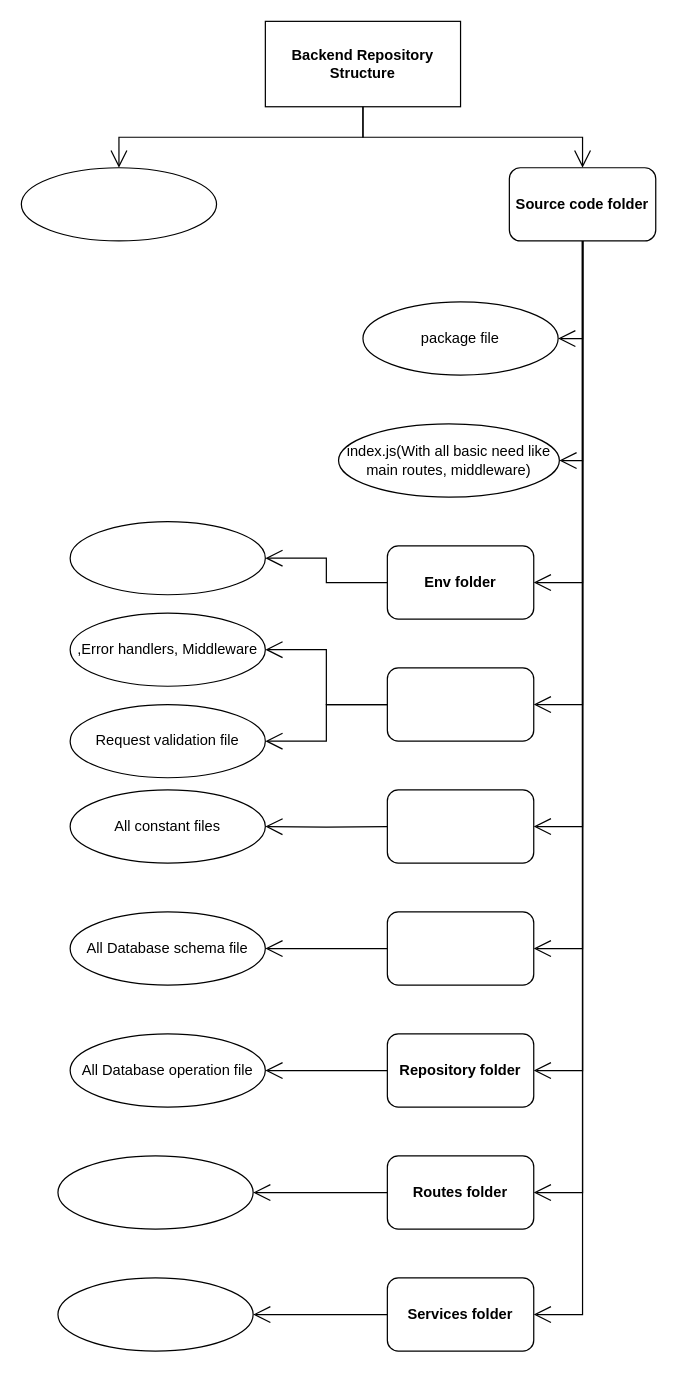
This 677x1373 diagram has some shape labels left out. The box of each missing label's shape, as (x1, y1, x2, y2) in pixels:
All Services file with all operations: (57, 1277, 253, 1351)
All sub routes file with basic response operation: (57, 1155, 253, 1229)
Common folder: (386, 667, 534, 741)
Constant folder: (386, 789, 534, 863)
Env files for all stages: (69, 520, 265, 595)
Git ignore file: (20, 167, 217, 241)
Model folder: (386, 911, 534, 985)
